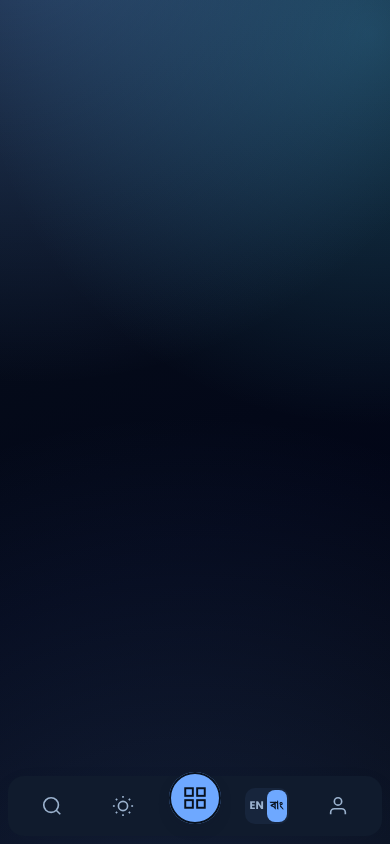
Test: keeps the icon-only dock accessible in bn
expect the link named "অনুসন্ধান করুন" is empty: met, box x1=41 y1=795 x2=63 y2=817
expect the link named "সব সেবা" is empty: met, box x1=169 y1=772 x2=221 y2=824
Click the button named "থিম" at [123, 806], box x1=88 y1=782 x2=159 y2=830
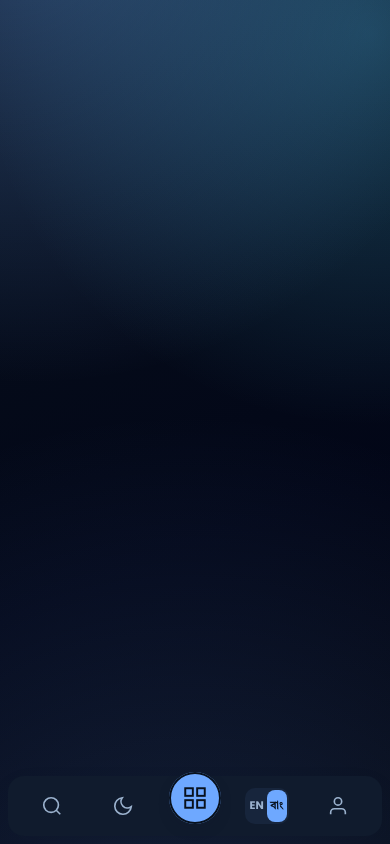
expect the button named "থিম" is pressed: met, box x1=88 y1=782 x2=159 y2=830
Click the button named "প্রোফাইল" at [338, 806], box x1=302 y1=782 x2=374 y2=830
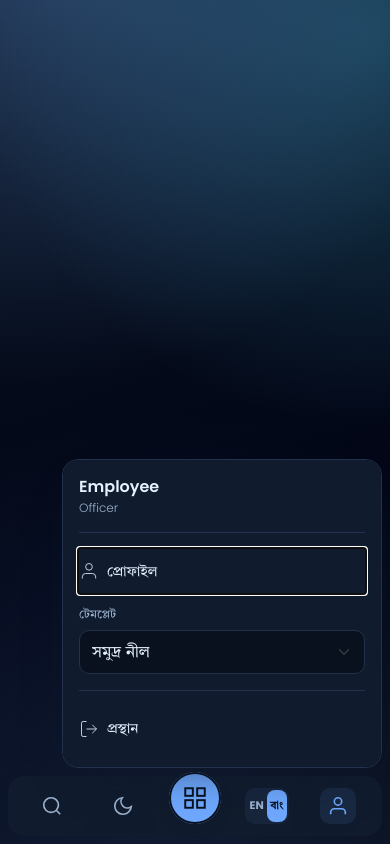
expect the button named "প্রোফাইল" is expanded: met, box x1=302 y1=782 x2=374 y2=830
Click the link "প্রোফাইল" at [118, 571], box x1=79 y1=561 x2=157 y2=582
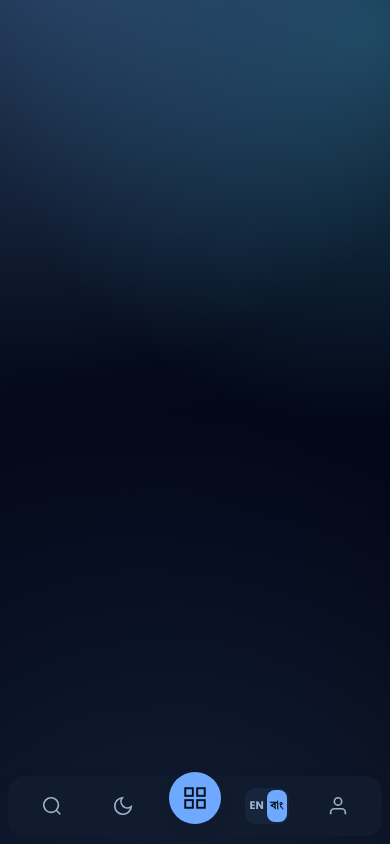
expect the button named "প্রোফাইল" is collapsed: met, box x1=302 y1=782 x2=374 y2=830
